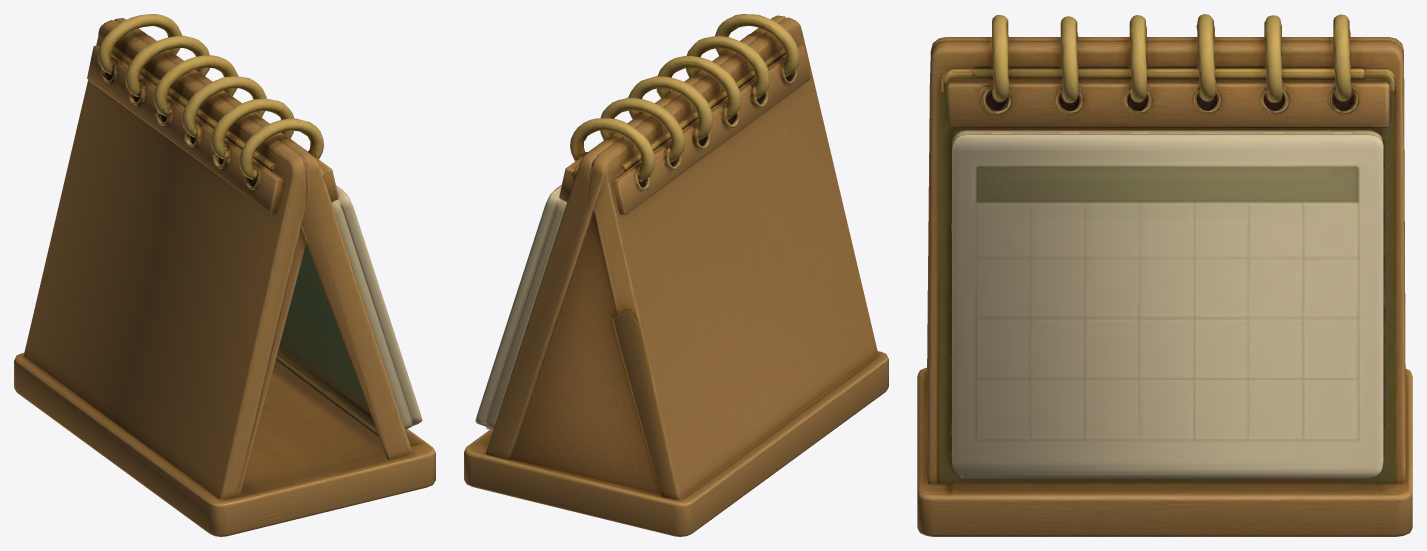
File: review-calendar-lod0.glb
3 views of the same model, side by side, from view 1: azimuth 30°, elevation 25°; view 2: azimuth 150°, elevation 25°; view 3: azimuth 270°, elevation 25° (orthographic). The views are drawn at different scales.
Parts seen in each view (by area): view 1: ROOT_ReviewCalendar; view 2: ROOT_ReviewCalendar; view 3: ROOT_ReviewCalendar.
Part boxes in pixels (bbox=[...]): ROOT_ReviewCalendar: bbox=[14, 14, 435, 536]; ROOT_ReviewCalendar: bbox=[464, 14, 888, 536]; ROOT_ReviewCalendar: bbox=[917, 14, 1412, 536].
Bounding box in the file's own units: 0.6269 × 0.9902 × 0.998.
1 material, 1 textured.
